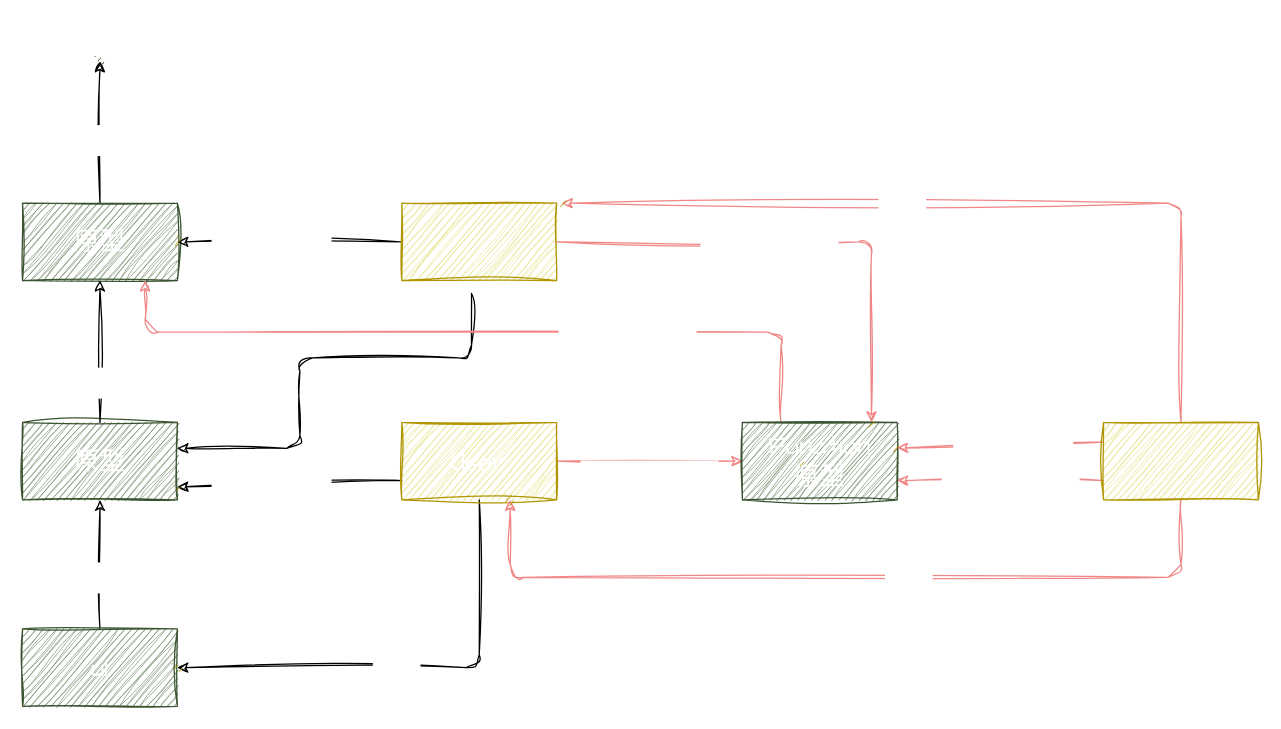
Image size: 1281x729. Some labels were removed from this diagram. Here are the shapes that lost their labels. From the top down, the box of each, then its label:
(86, 47, 113, 74): null
(401, 202, 557, 281): Object
(1102, 421, 1258, 500): Function
